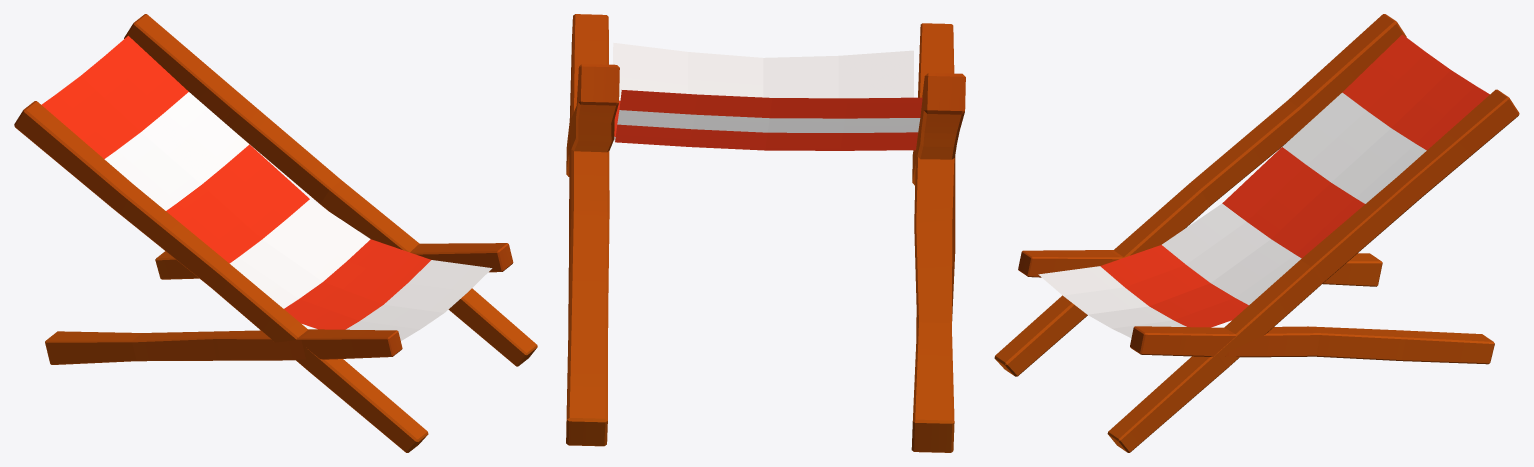
Rendered from BeachChair.fbx.
The picture shows the model from 3 angles, left to right: view 1: azimuth 30°, elevation 25°; view 2: azimuth 150°, elevation 25°; view 3: azimuth 270°, elevation 25°; orthographic projection. The views are drawn at different scales.
Parts seen in each view (by area): view 1: BeachChari_LOD0; view 2: BeachChari_LOD0; view 3: BeachChari_LOD0.
Part boxes in pixels (<box>): BeachChari_LOD0: <box>14,14,537,452</box>; BeachChari_LOD0: <box>566,14,965,452</box>; BeachChari_LOD0: <box>994,14,1519,452</box>.
Size of what is drawn, in the model's own units: 127 by 81.73 by 146.
